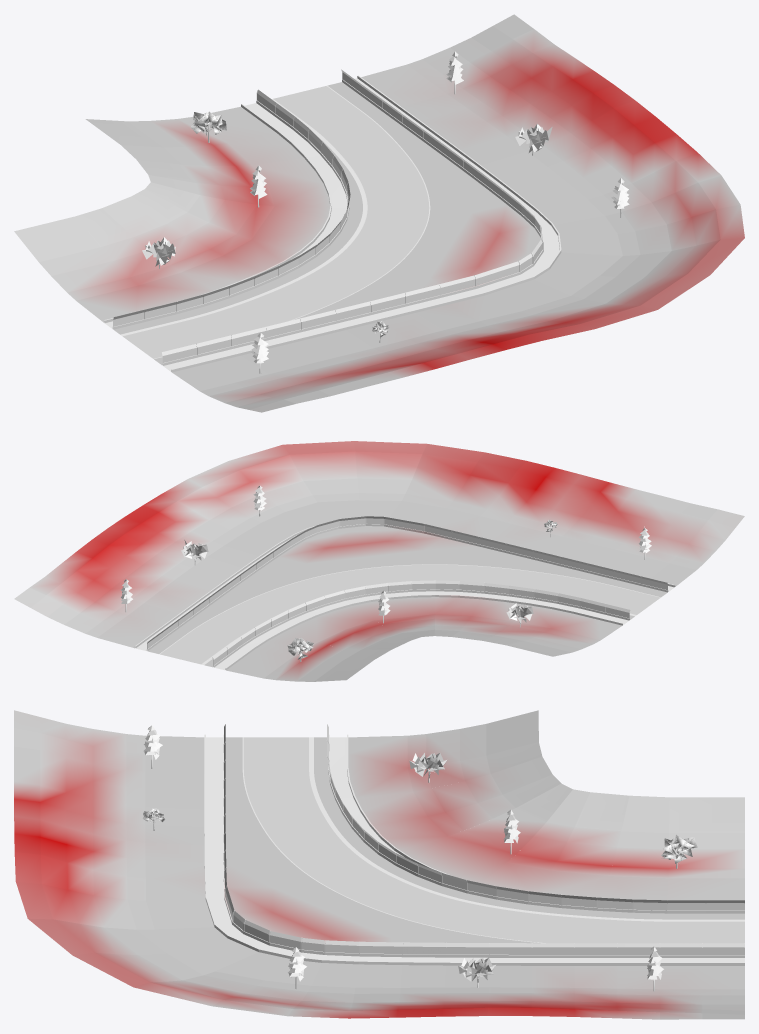
The picture shows the model from 3 angles, top to bottom: view 1: azimuth 30°, elevation 25°; view 2: azimuth 150°, elevation 25°; view 3: azimuth 270°, elevation 25°; orthographic projection. The views are drawn at different scales.
Visible parts, largest first — view 1: Grass, Road, Track, Wirefence, Trees; view 2: Grass, Road, Wirefence, Track, Trees; view 3: Grass, Road, Track, Wirefence, Trees.
Boxes of the visible parts, box(x1,y1,x2,y2) form: Grass: box(14, 14, 744, 412); Road: box(123, 86, 429, 358); Track: box(104, 69, 561, 372); Wirefence: box(113, 70, 542, 362); Trees: box(142, 51, 629, 373); Grass: box(14, 441, 744, 681); Road: box(160, 564, 660, 664); Wirefence: box(147, 516, 667, 664); Track: box(134, 516, 675, 670); Trees: box(121, 485, 651, 661); Grass: box(14, 710, 744, 1019); Road: box(243, 737, 744, 943); Track: box(204, 734, 744, 965); Wirefence: box(224, 724, 744, 954); Trees: box(142, 725, 697, 991).
Size of what is drawn, in the model's own units: 19500 by 1519 by 19500.
